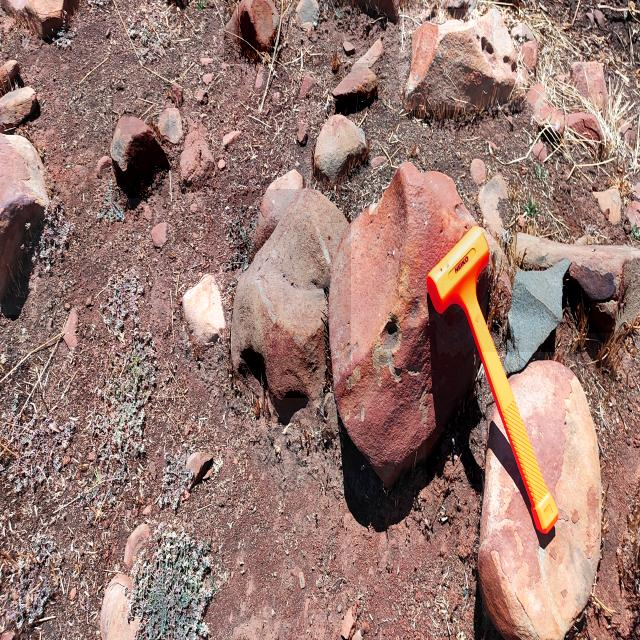Orange_hammer: (426, 224, 559, 536)
rock: (482, 352, 597, 630), (232, 189, 351, 398), (508, 221, 631, 333), (399, 9, 522, 110), (0, 130, 49, 315), (112, 111, 169, 198), (313, 114, 368, 184), (224, 0, 282, 64), (183, 273, 224, 344), (333, 63, 384, 114)
